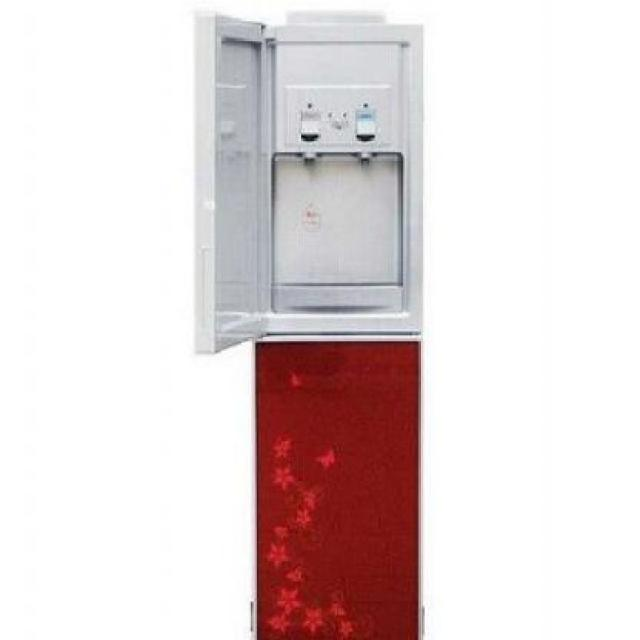cooler: (186, 3, 427, 639)
